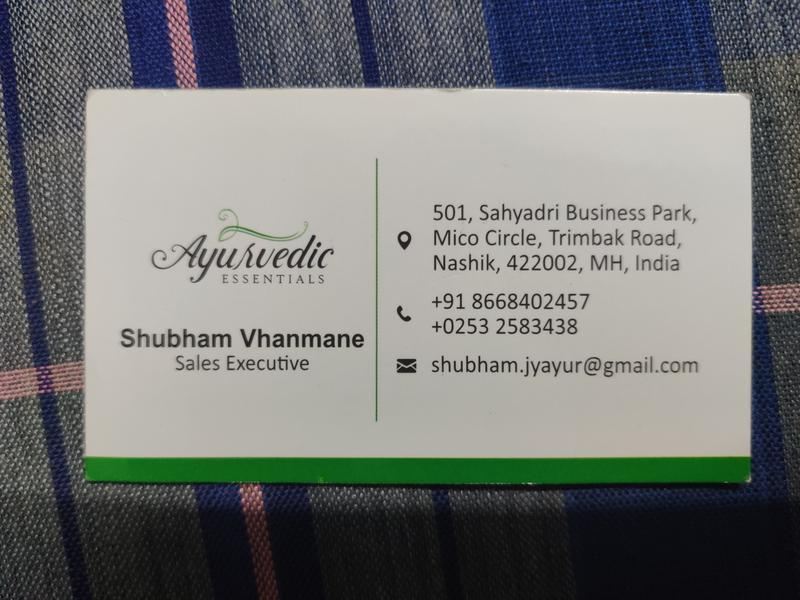card: (85, 88, 754, 484)
